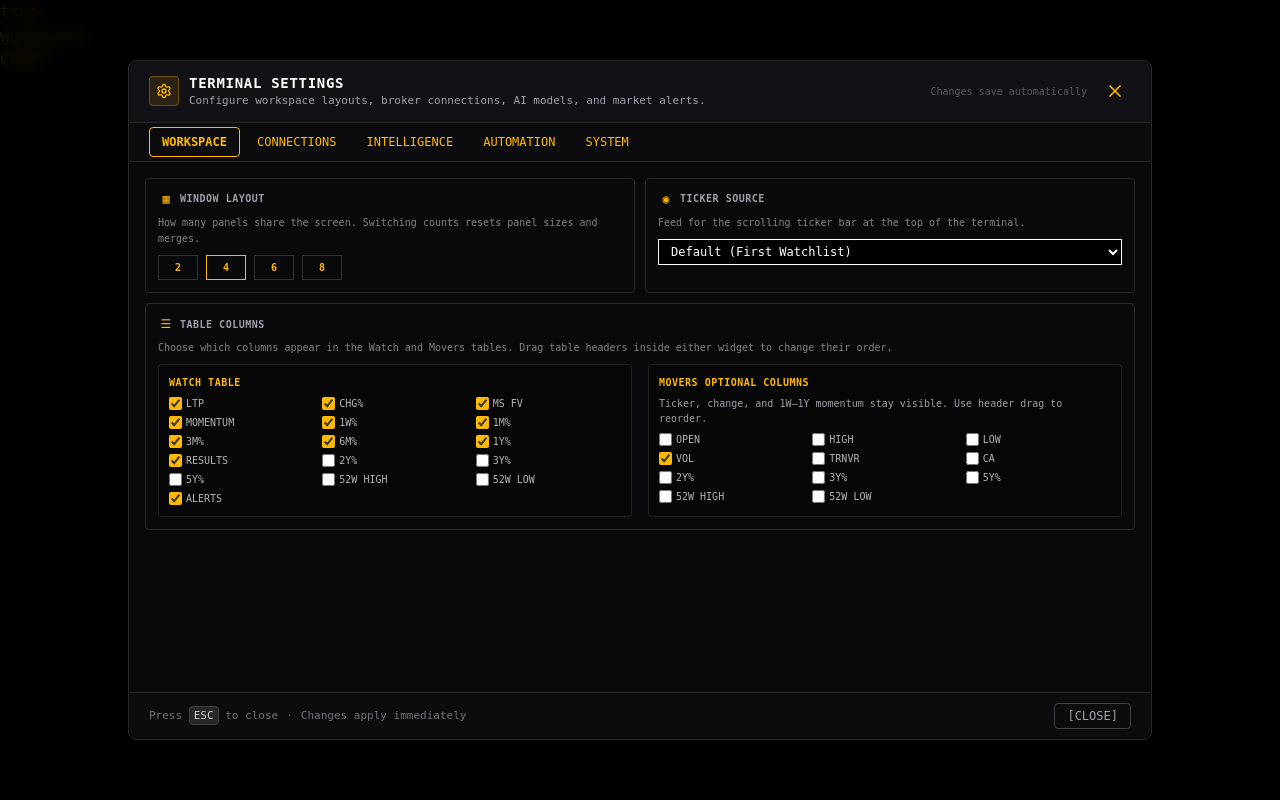
Scenario: SettingsModal rendering via TerminalContainer › closes modal via [X] button
Expected: the text with test id "is-settings-open" reads "true", [0,2,38,21]
Click the button named "close settings". click: click(1115, 91)
box: [1099,75,1131,107]
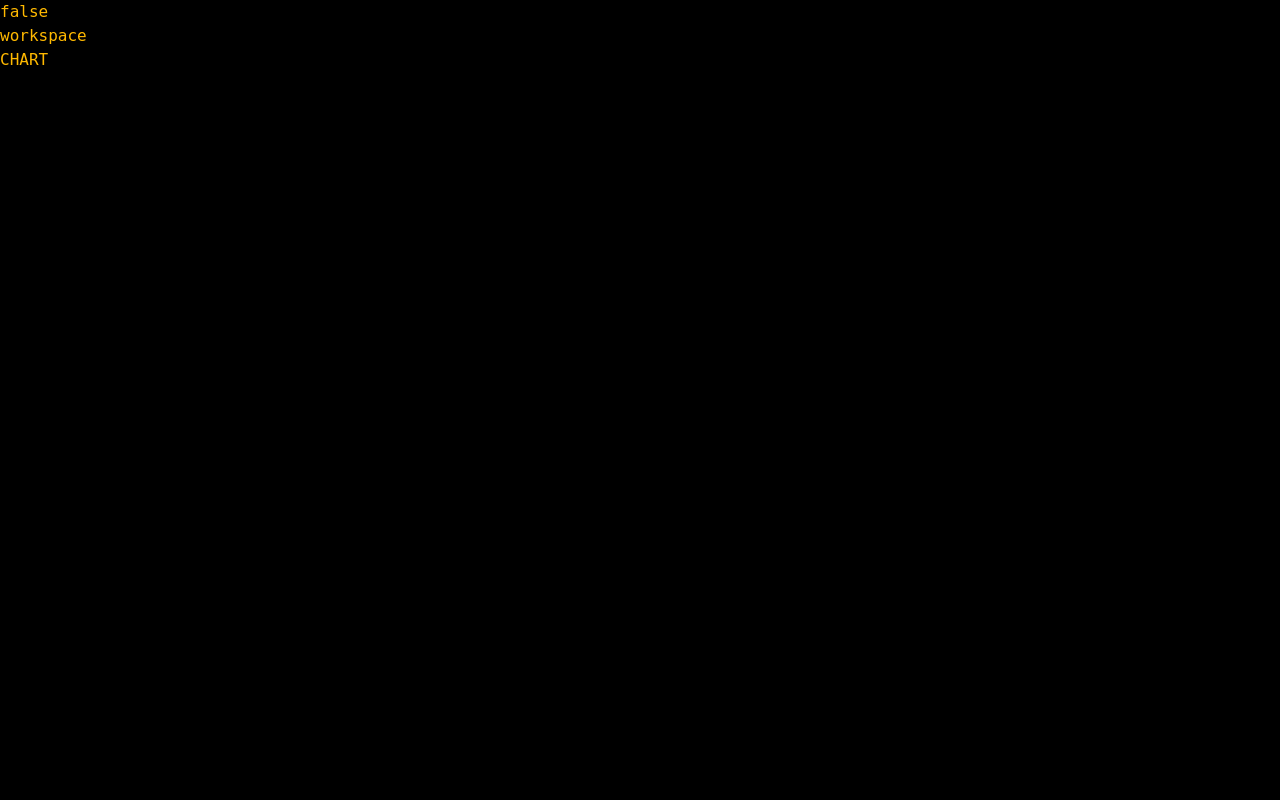
Result: the text with test id "is-settings-open" reads "false" at [0,2,48,21]
